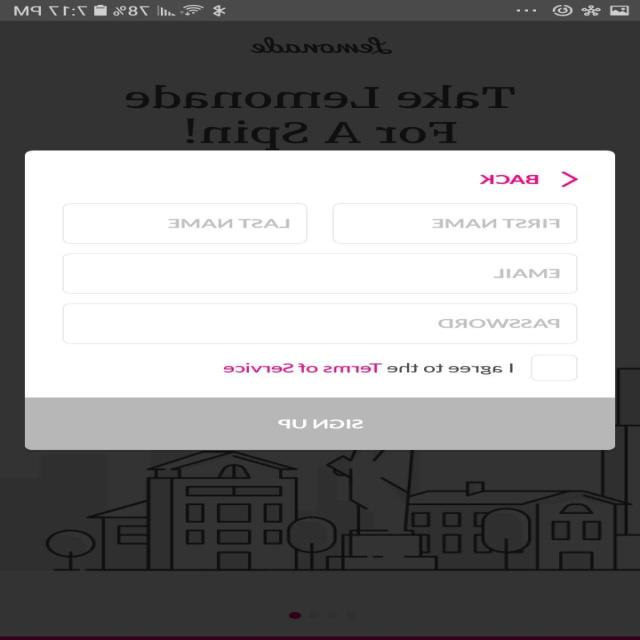EditText: (62, 303, 578, 344), (63, 253, 579, 294), (63, 203, 309, 244), (332, 203, 578, 244)
Icon: (561, 171, 579, 187)
Modal: (25, 150, 616, 450)
Text: (126, 84, 516, 148), (224, 362, 514, 375), (251, 36, 393, 55), (432, 219, 560, 228), (169, 219, 291, 228), (438, 319, 560, 328), (493, 269, 560, 278), (480, 174, 540, 184)
TextButton: (25, 398, 616, 450)
